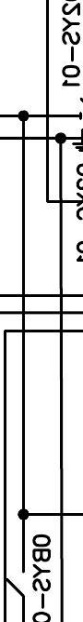115_ds: (7, 569, 25, 597)
